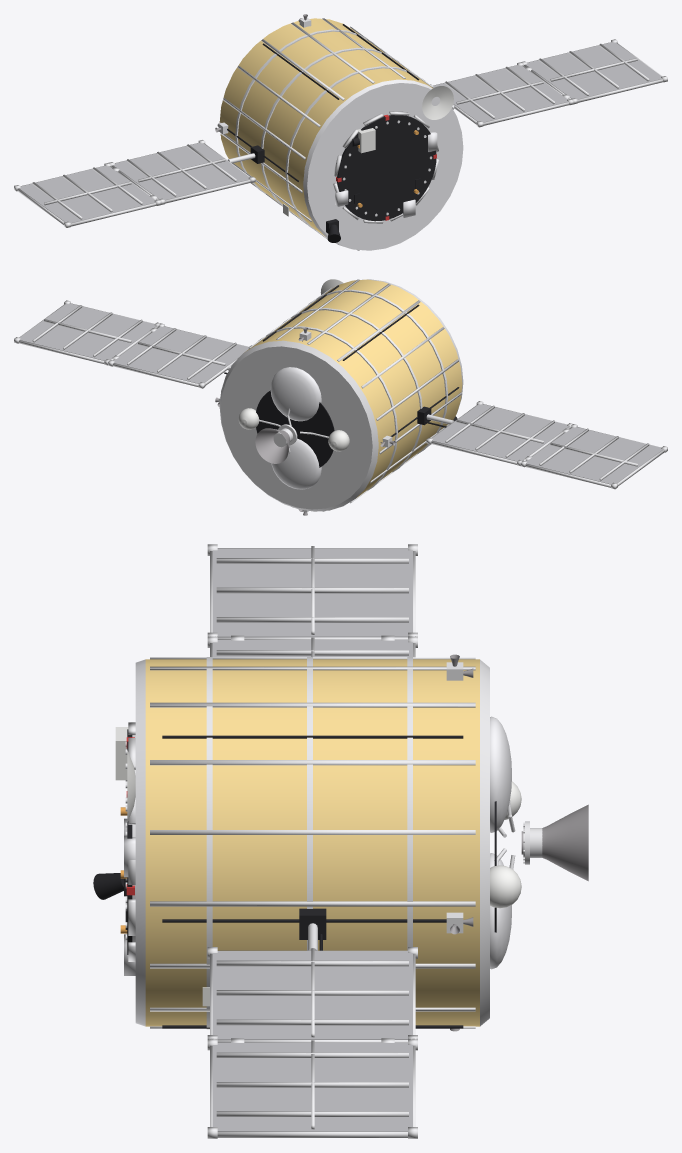
File: propulsion_module_B.obj
3 renders of one model, top to bottom at view 1: azimuth 30°, elevation 25°; view 2: azimuth 150°, elevation 25°; view 3: azimuth 270°, elevation 25°, orthographic. The views are drawn at different scales.
Visible parts, largest first — view 1: pm_body, pm_top_deck, clamp_band, pm_wing_starboard_panel1_substrate, pm_wing_port_panel1_substrate, pm_wing_starboard_panel0_substrate, pm_wing_port_panel0_substrate, pm_stringers, pm_wing_port_panel1_back_ribs, pm_wing_starboard_panel1_back_ribs, pm_wing_port_panel0_back_ribs, pm_wing_starboard_panel0_back_ribs (+11 smaller); view 2: pm_body, pm_bottom_deck, pm_wing_starboard_panel1_substrate, pm_wing_starboard_panel0_substrate, pm_wing_port_panel1_substrate, pm_wing_port_panel0_substrate, pm_stringers, pm_tank_dome0, pm_engine_heat_shield, pm_tank_dome1, pm_wing_starboard_panel1_back_ribs, pm_main_engine_bell (+11 smaller); view 3: pm_body, pm_wing_port_panel1_substrate, pm_wing_starboard_panel1_substrate, pm_wing_port_panel0_substrate, pm_stringers, pm_wing_port_panel0_back_ribs, pm_top_deck, pm_wing_starboard_panel1_back_ribs, pm_wing_port_panel1_back_ribs, pm_bottom_deck, pm_main_engine_bell, pm_wing_starboard_panel0_substrate (+13 smaller).
Part boxes in pixels (x1,y1,x2,y2): pm_body: [219, 18, 432, 236]; pm_top_deck: [303, 79, 463, 250]; clamp_band: [337, 115, 436, 221]; pm_wing_starboard_panel1_substrate: [18, 165, 155, 223]; pm_wing_port_panel1_substrate: [525, 42, 661, 99]; pm_wing_starboard_panel0_substrate: [113, 142, 249, 200]; pm_wing_port_panel0_substrate: [433, 65, 567, 122]; pm_stringers: [220, 18, 452, 250]; pm_wing_port_panel1_back_ribs: [539, 43, 649, 95]; pm_wing_starboard_panel1_back_ribs: [32, 167, 142, 219]; pm_wing_port_panel0_back_ribs: [445, 66, 554, 118]; pm_wing_starboard_panel0_back_ribs: [127, 144, 236, 196]; pm_body: [244, 279, 462, 497]; pm_bottom_deck: [219, 340, 378, 511]; pm_wing_starboard_panel1_substrate: [526, 427, 662, 484]; pm_wing_starboard_panel0_substrate: [432, 404, 568, 461]; pm_wing_port_panel1_substrate: [20, 303, 156, 360]; pm_wing_port_panel0_substrate: [114, 326, 248, 383]; pm_stringers: [220, 279, 461, 511]; pm_tank_dome0: [270, 367, 321, 421]; pm_engine_heat_shield: [256, 390, 334, 467]; pm_tank_dome1: [271, 438, 321, 489]; pm_wing_starboard_panel1_back_ribs: [539, 428, 649, 480]; pm_main_engine_bell: [255, 428, 289, 463]; pm_body: [145, 659, 479, 1026]; pm_wing_port_panel1_substrate: [212, 1042, 412, 1131]; pm_wing_starboard_panel1_substrate: [212, 548, 412, 637]; pm_wing_port_panel0_substrate: [212, 951, 412, 1039]; pm_stringers: [150, 657, 475, 1028]; pm_wing_port_panel0_back_ribs: [216, 948, 408, 1037]; pm_top_deck: [135, 659, 145, 1026]; pm_wing_starboard_panel1_back_ribs: [216, 546, 408, 634]; pm_wing_port_panel1_back_ribs: [216, 1040, 408, 1129]; pm_bottom_deck: [480, 659, 489, 1026]; pm_main_engine_bell: [521, 804, 588, 881]; pm_wing_starboard_panel0_substrate: [212, 640, 412, 657].
Size of the model in its own units: 8.31 by 2.46 by 2.96.
Materials: 10 (10 with a texture image).
